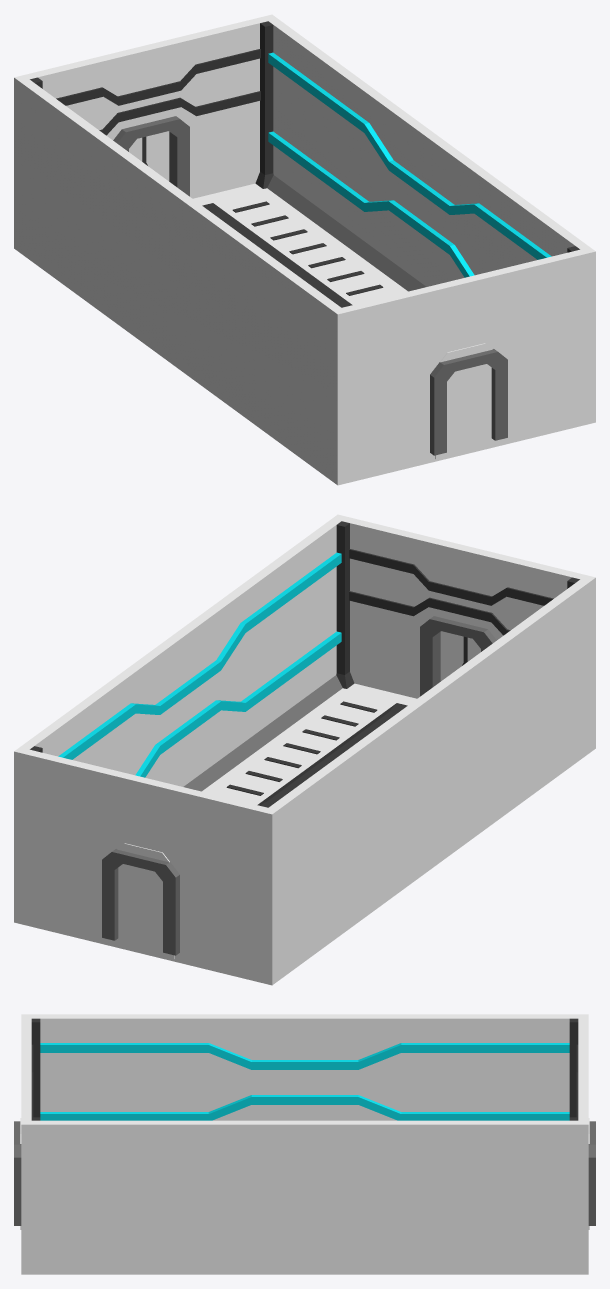
Rendered from SciFiRoom6.fbx.
The picture shows the model from 3 angles, top to bottom: view 1: azimuth 30°, elevation 25°; view 2: azimuth 150°, elevation 25°; view 3: azimuth 270°, elevation 25°; orthographic projection. The views are drawn at different scales.
Visible parts, largest first — view 1: Door2.035, Door2.012, Door2.034, Door2.029, Cube.015, Cube.008, Cube.007, Cube.011, Door2.028, Door2.036, Door2.011, Door2.016 (+1 smaller); view 2: Door2.035, Door2.029, Door2.034, Door2.012, Cube.015, Cube.008, Cube.007, Cube.011, Door2.036, Door2.028, Door2.030, Door2.032 (+1 smaller); view 3: Door2.034, Door2.035, Cube.008, Cube.015, Cube.007, Door2.012, Door2.029, Door2.028, Door2.036, Cube.011.
Part boxes in pixels (box(x1,y1,x2,y2)): Door2.035: box(14, 77, 341, 473); Door2.012: box(337, 249, 595, 473); Door2.034: box(268, 14, 595, 286); Door2.029: box(14, 14, 271, 198); Cube.015: box(14, 183, 595, 485); Cube.008: box(268, 52, 551, 277); Cube.007: box(30, 21, 579, 307); Cube.011: box(56, 49, 260, 135); Door2.028: box(430, 349, 507, 455); Door2.036: box(113, 116, 189, 196); Door2.011: box(435, 348, 473, 459); Door2.016: box(466, 343, 497, 449); Door2.035: box(268, 577, 595, 973); Door2.029: box(14, 749, 272, 973); Door2.034: box(14, 514, 341, 786); Door2.012: box(338, 514, 595, 698); Cube.015: box(14, 683, 595, 985); Cube.008: box(58, 552, 341, 777); Cube.007: box(30, 521, 579, 807); Cube.011: box(349, 549, 553, 635); Door2.036: box(102, 849, 179, 955); Door2.028: box(420, 616, 496, 696); Door2.030: box(136, 848, 174, 959); Door2.032: box(112, 843, 143, 949); Door2.034: box(21, 1120, 588, 1264); Door2.035: box(22, 1014, 587, 1120); Cube.008: box(40, 1043, 569, 1120); Cube.015: box(21, 1264, 588, 1274); Cube.007: box(31, 1018, 578, 1120); Door2.012: box(21, 1014, 31, 1124); Door2.029: box(578, 1014, 588, 1124); Door2.028: box(14, 1121, 21, 1225); Door2.036: box(588, 1121, 595, 1225); Cube.011: box(31, 1044, 578, 1117).
Bounding box in the file's own units: 1145 × 725 × 2551.
Materials: 1 (1 with a texture image).
